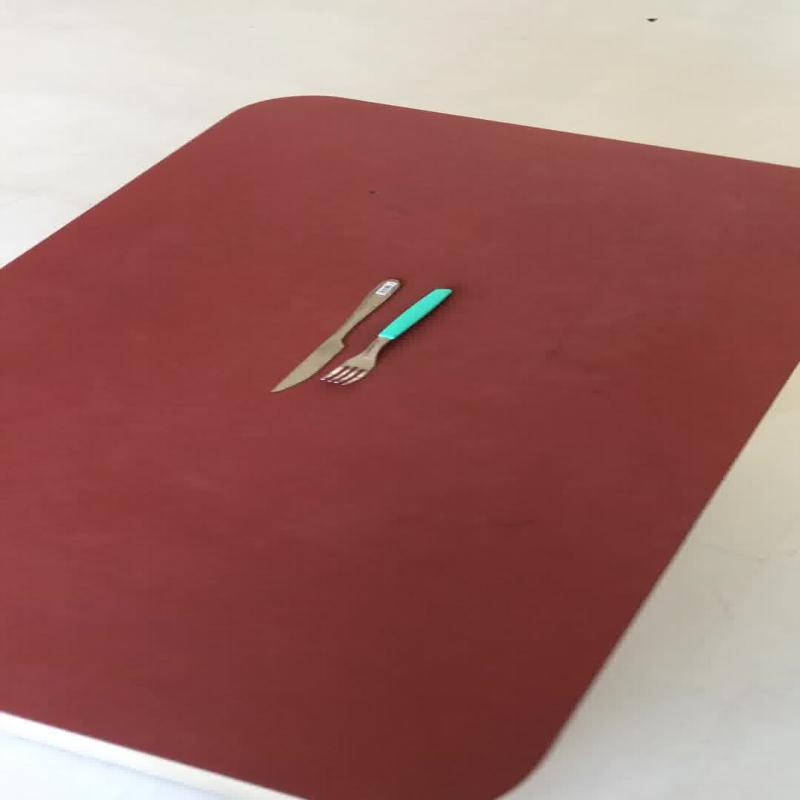fork: (318, 286, 452, 386)
knife: (267, 276, 401, 392)
